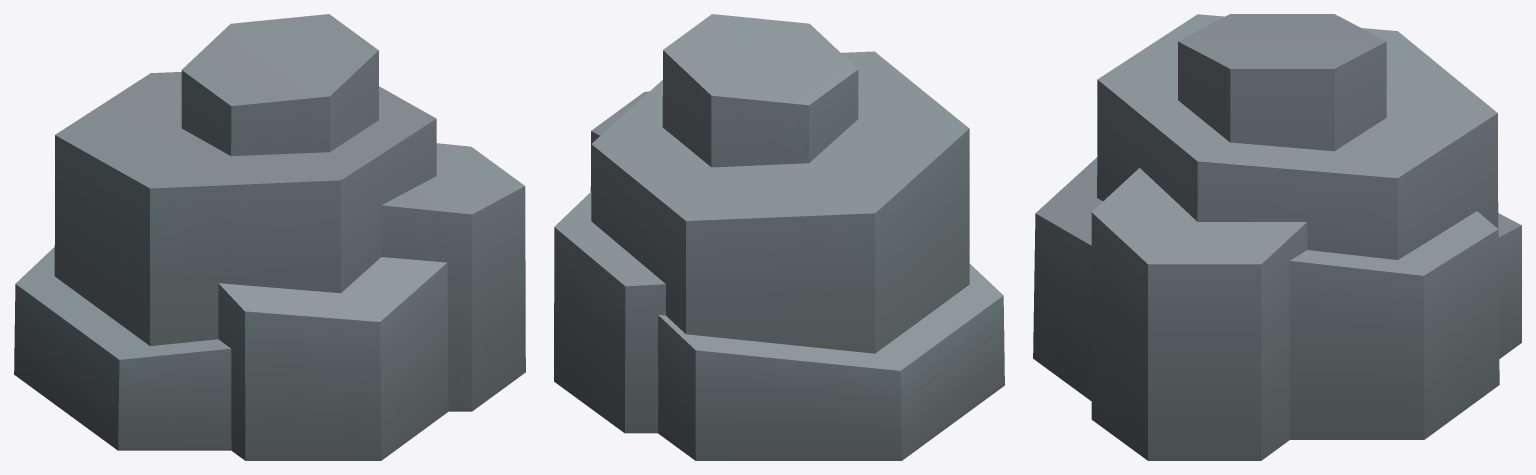
Rendered from mountain-a.glb.
3 renders of one model, left to right at view 1: azimuth 30°, elevation 25°; view 2: azimuth 150°, elevation 25°; view 3: azimuth 270°, elevation 25°, orthographic. The views are drawn at different scales.
Visible parts, largest first — view 1: mountain_A; view 2: mountain_A; view 3: mountain_A.
Part boxes in pixels (x1,y1,x2,y2): mountain_A: [14, 14, 525, 460]; mountain_A: [554, 14, 1004, 460]; mountain_A: [1033, 14, 1521, 460].
Size of the model in its own units: 1.8 by 1.43 by 1.88.
1 material, 1 textured.
